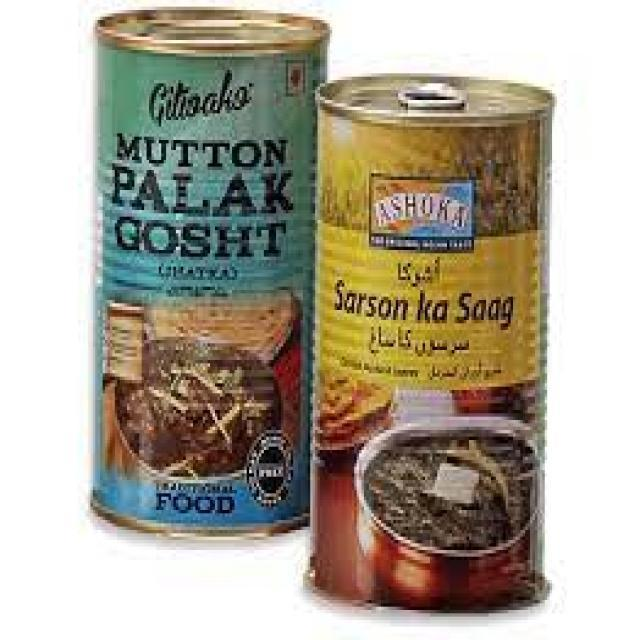metal-can: (302, 67, 561, 616), (89, 5, 334, 539)
